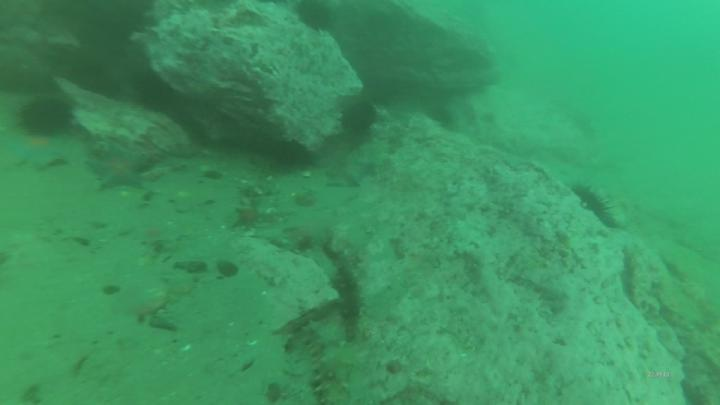echinus: (571, 181, 623, 238), (16, 94, 77, 141), (130, 68, 182, 116), (70, 62, 122, 101), (339, 98, 380, 138), (296, 1, 335, 38)
holothurian: (300, 321, 375, 405), (331, 260, 374, 344), (678, 325, 720, 405), (621, 241, 660, 311)
starfish: (86, 142, 156, 194), (322, 154, 378, 192), (1, 143, 68, 173), (229, 203, 271, 235)
